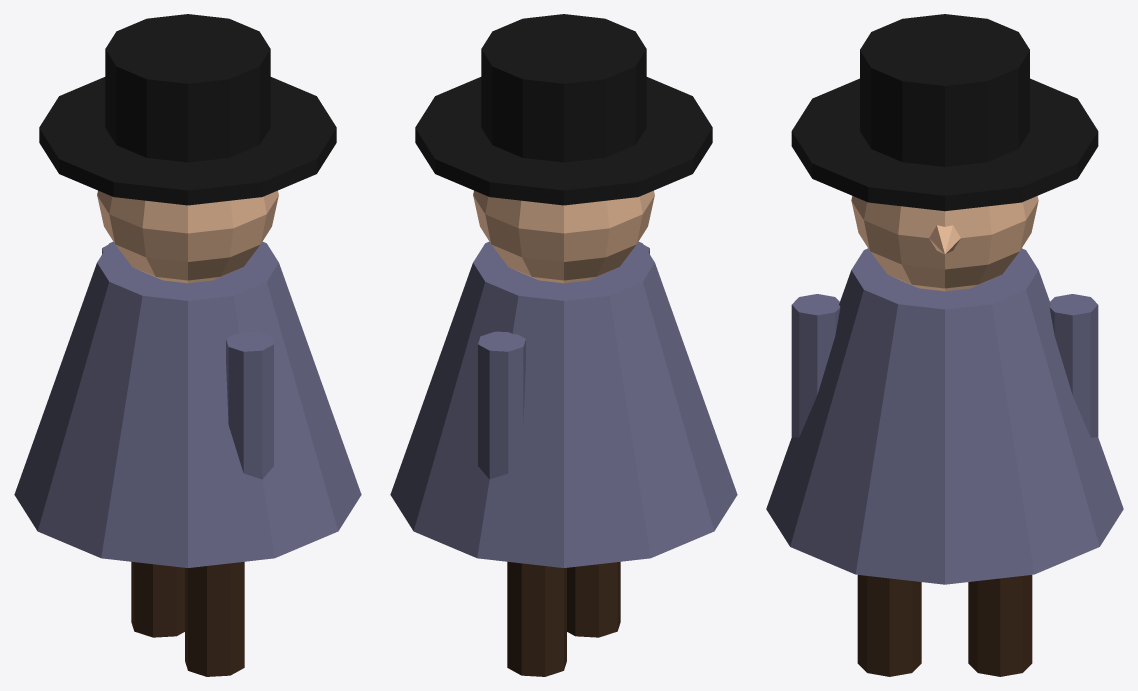
File: pilgrim3d.obj
3 renders of one model, left to right at view 1: azimuth 30°, elevation 25°; view 2: azimuth 150°, elevation 25°; view 3: azimuth 270°, elevation 25°, orthographic. The views are drawn at different scales.
Size of the model in its own units: 0.84 by 1.59 by 0.84.
